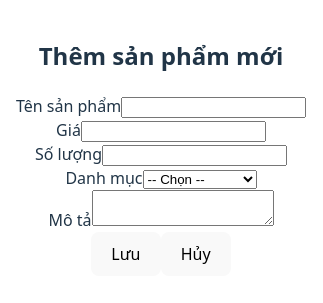
it: Product  Mock Tests › TC3: Thêm sản phẩm mới thành công
This screenshot has width=323, height=303.
Type "Toán lớp 5" into the field with test id "product-name".
click(214, 108); type("Toán lớp 5")  # box [121, 97, 306, 118]
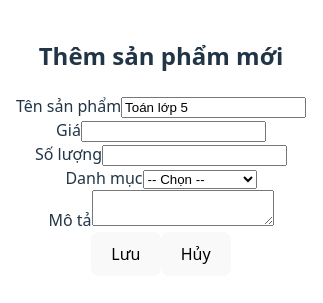
Type "1200" into the number field with test id "product-price".
click(173, 132); type("1200")  # box [81, 121, 266, 142]
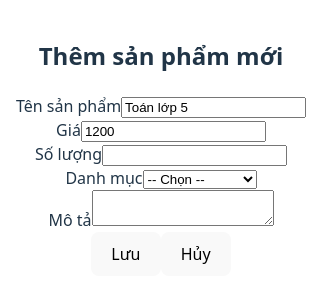
Type "3" into the number field with test id "product-quantity".
click(194, 156); type("3")  # box [102, 145, 287, 166]
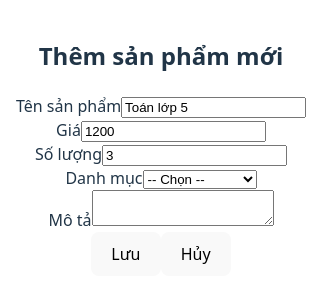
Select "Sách giáo khoa" in the dropdown with test id "product-categoryName" at (200,180), box [142, 170, 256, 189]
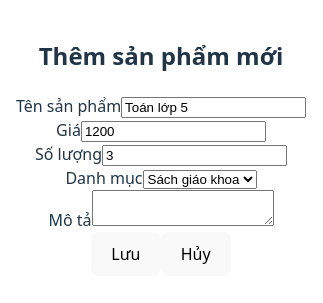
Type "Dùng để giảng giải kiến thức toán lớp 5 cũng như học tập" into the text box with test id "product-description".
click(182, 208); type("Dùng để giảng giải kiến thức toán lớp 5 cũng như học tập")  # box [92, 190, 274, 226]
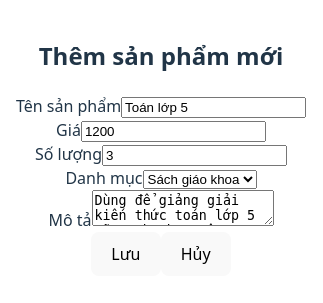
Click the button with test id "product-save".
click(126, 254)  # box [91, 232, 160, 276]
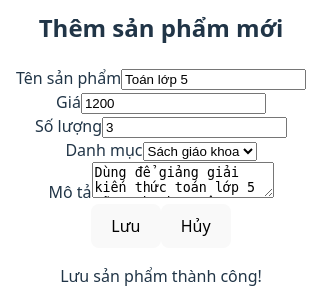
Expected: the text "Lưu sản phẩm thành công!" is shown, [60, 264, 262, 286]
